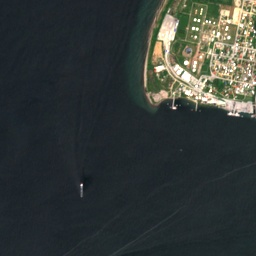Ship: (79, 189, 84, 198)
